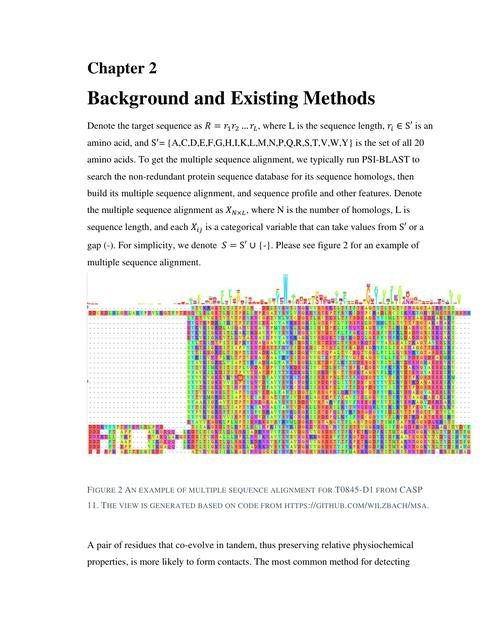box: (86, 273, 470, 459)
